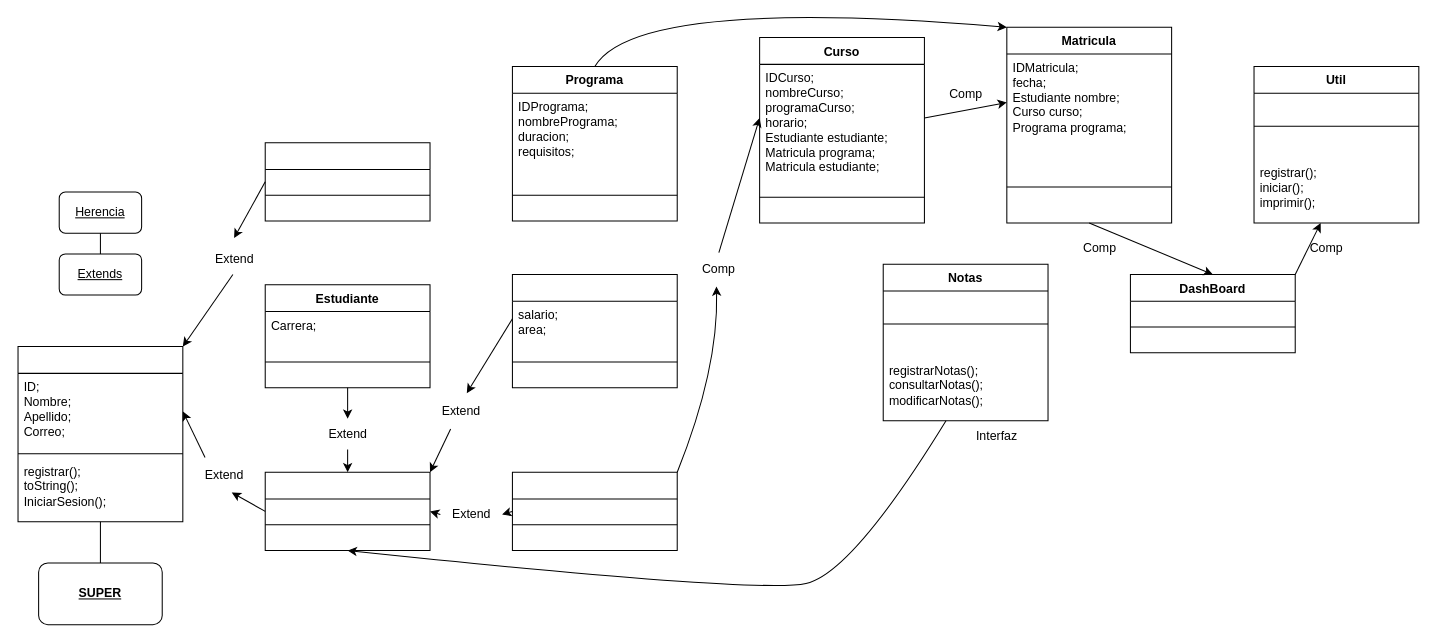
Image size: 1437x644. Some labels were removed from this diagram. The shapes that lost their labels are listed below. From the top down, each one's box as (x1, y1, x2, y2) in pixels, then its label:
(264, 142, 430, 221): Administrativo
(511, 273, 677, 388): EmpleadoEscuela
(17, 346, 183, 522): Usuario
(264, 471, 430, 551): Academico
(511, 471, 677, 551): Profesor
